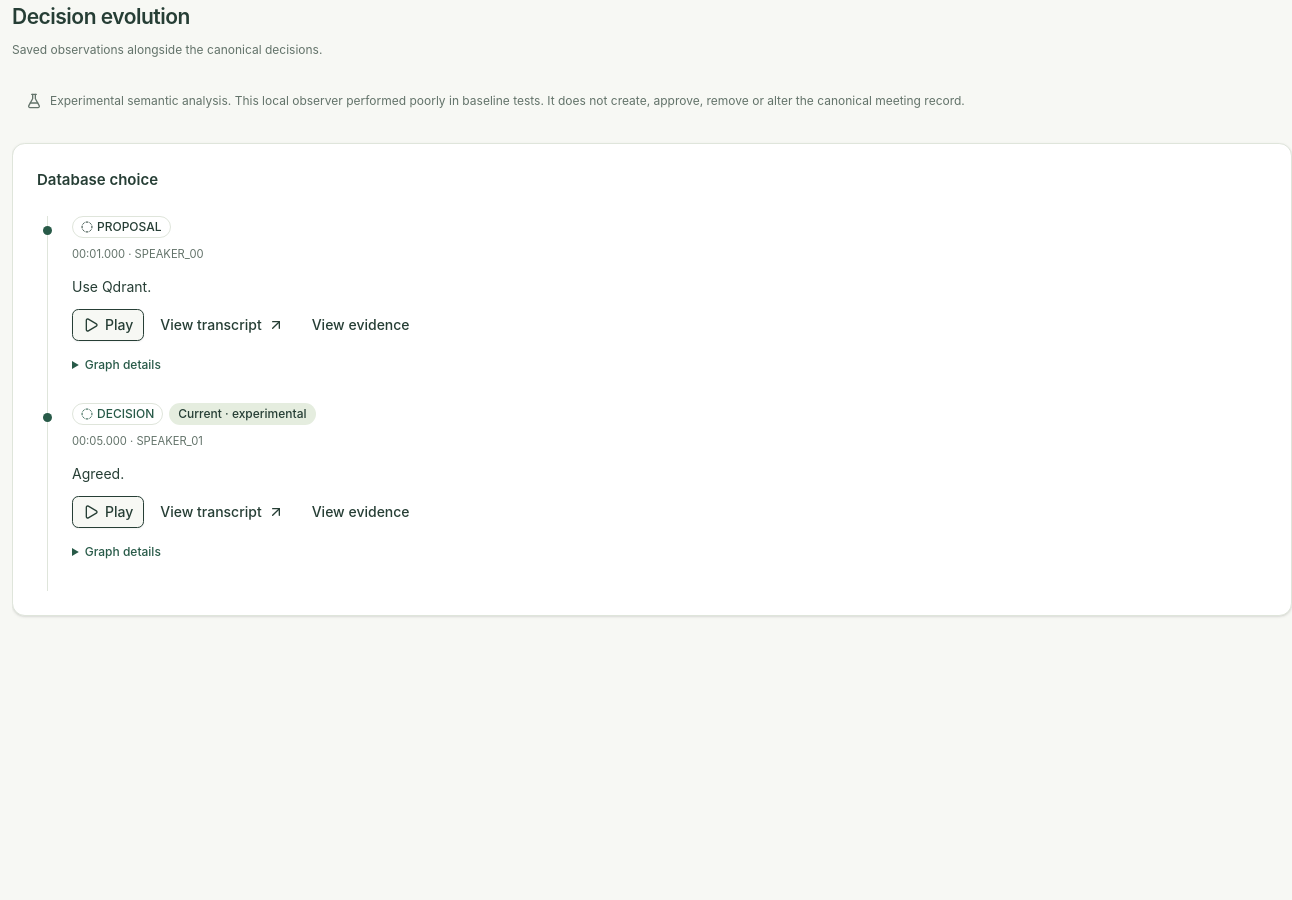
Test: trust-aware workspace › renders exact timeline quotes, experimental current state and diagnostics
The width and height of the screenshot is (1292, 900).
Expected: the text "performed poorly" is shown, left=50, top=93, right=965, bottom=108
Expected: the text "Use Qdrant." is shown, left=72, top=278, right=151, bottom=294
Click the button "Play" below "PROPOSAL" at {"x": 108, "y": 325}, box left=72, top=309, right=144, bottom=341
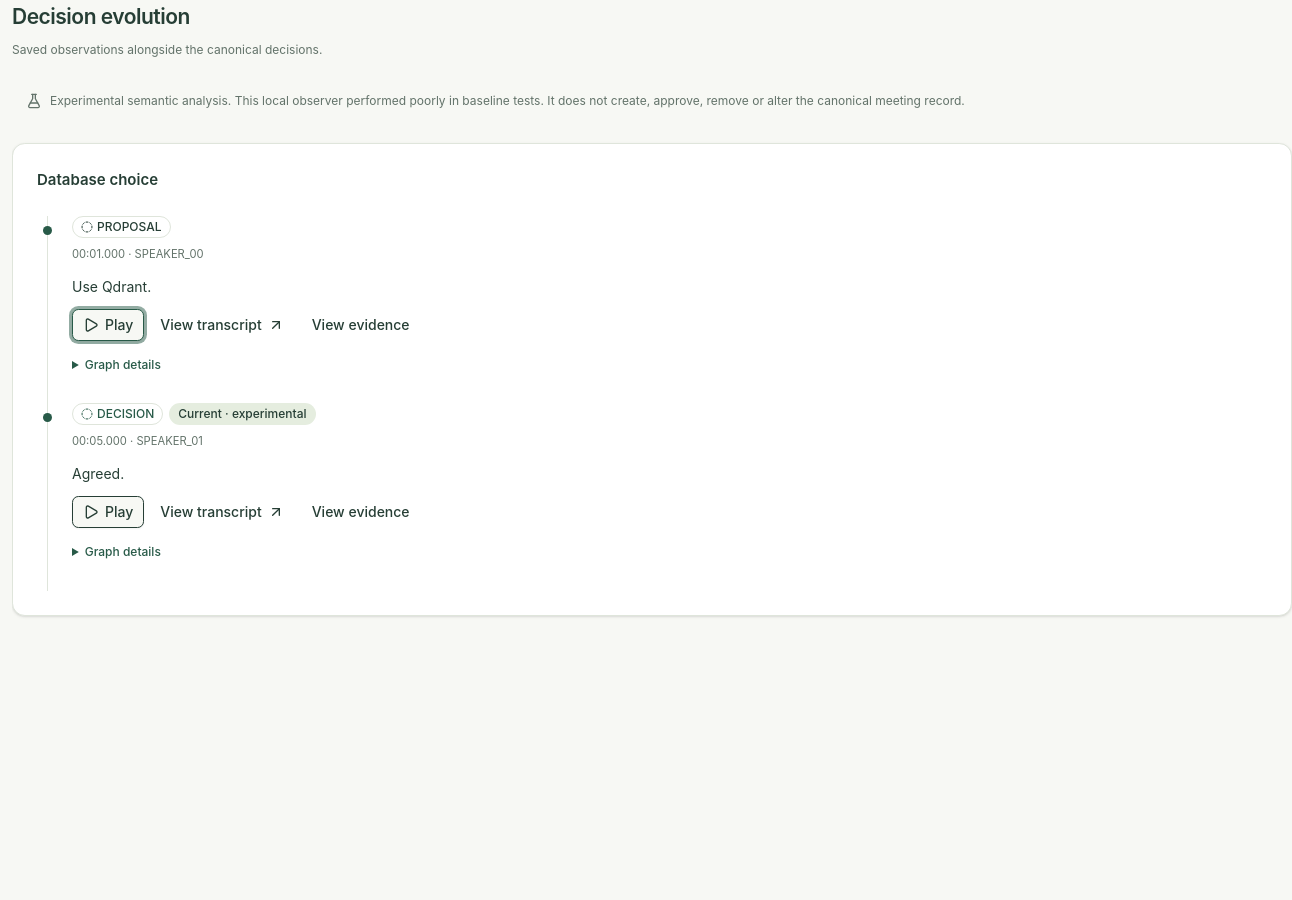
Click the button "View transcript" below "PROPOSAL" at {"x": 222, "y": 325}, box left=150, top=309, right=294, bottom=341
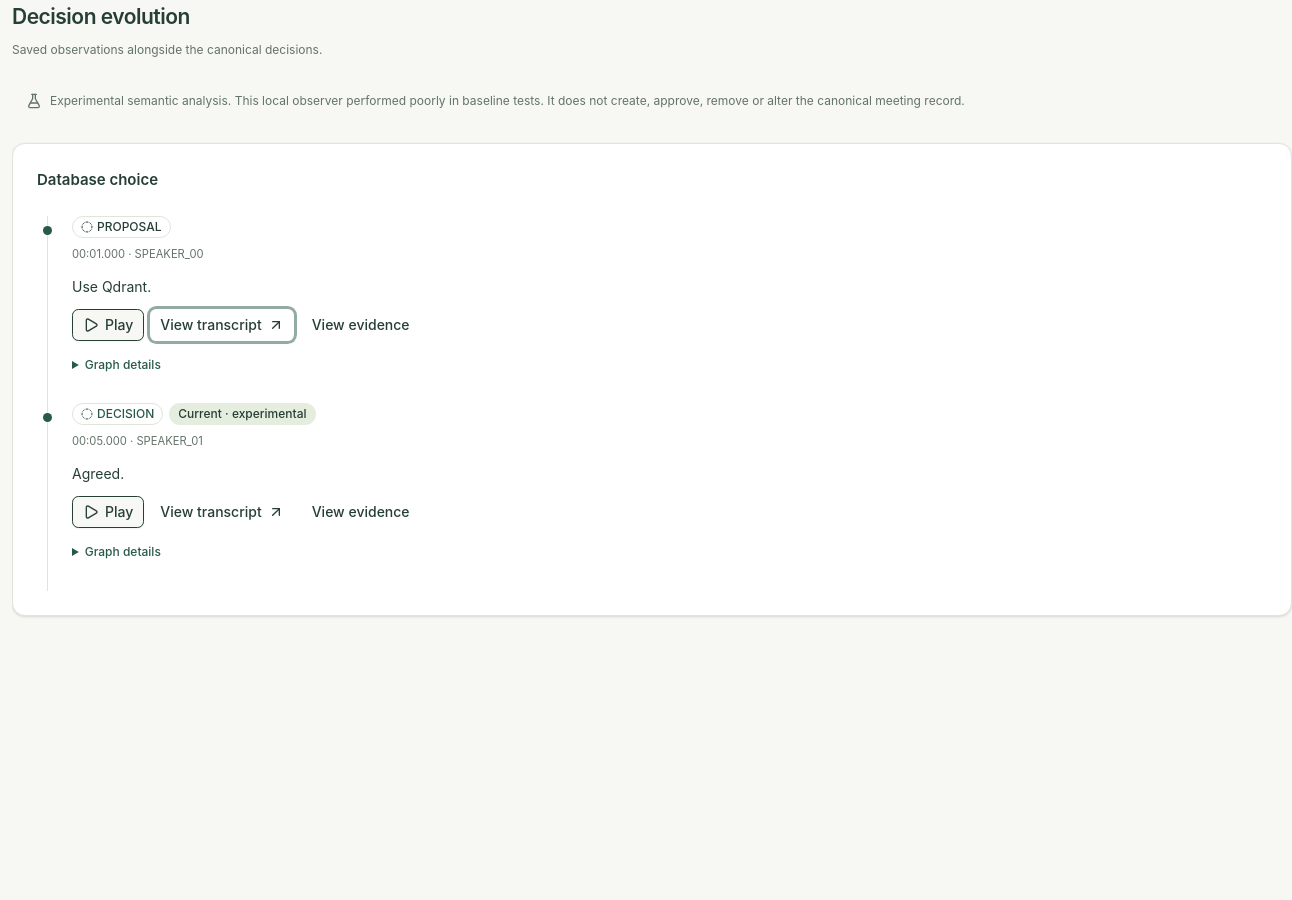
Click the heading "Graph details" below "PROPOSAL" at {"x": 123, "y": 364}, box left=85, top=357, right=161, bottom=372
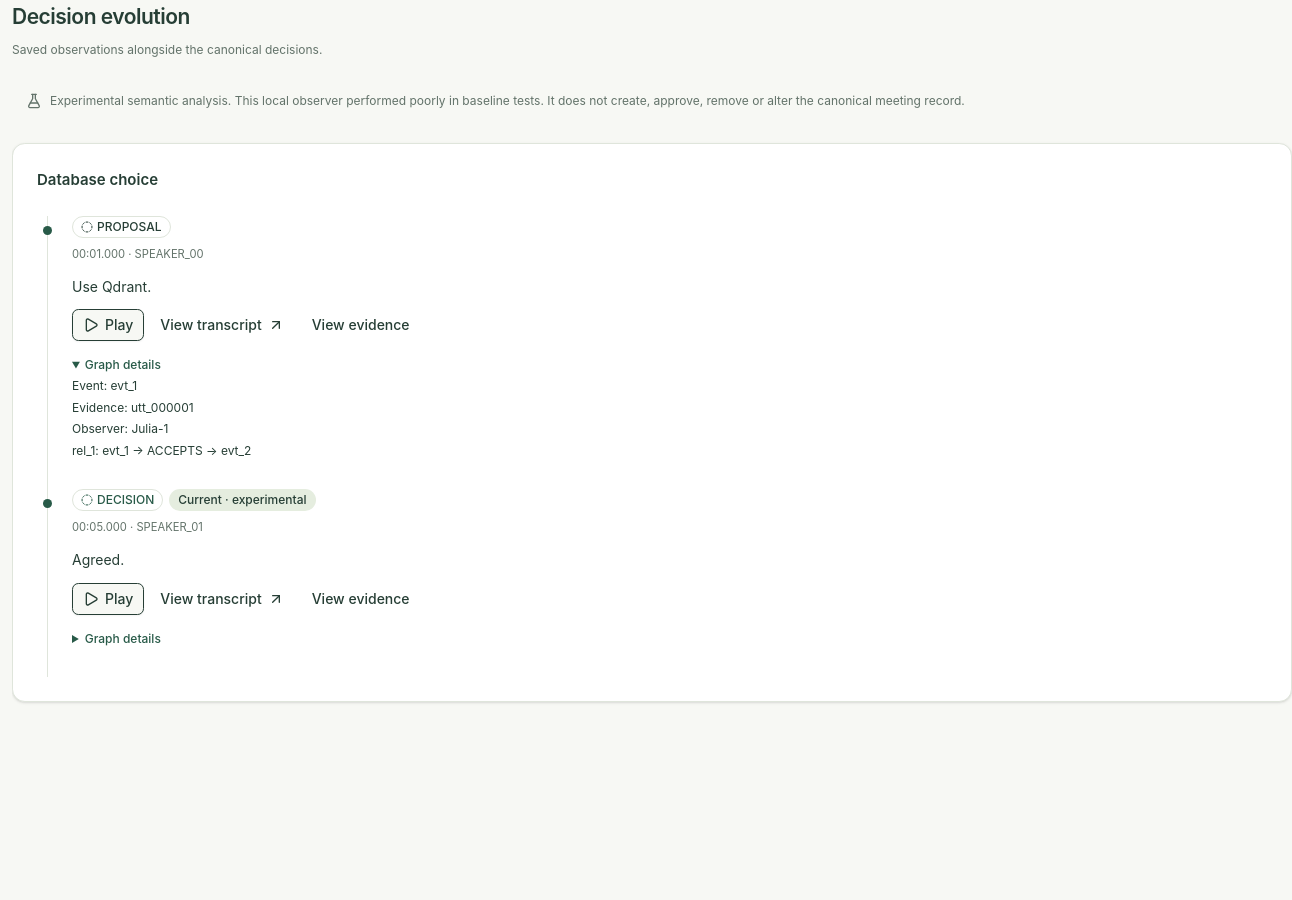
Result: the text "rel_1: evt_1 → ACCEPTS → evt_2" is shown at left=72, top=443, right=251, bottom=458
